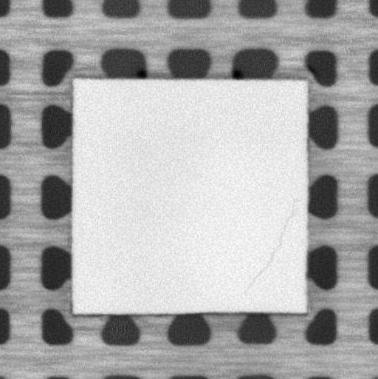DIE_CRACK: (243, 198, 301, 295)
